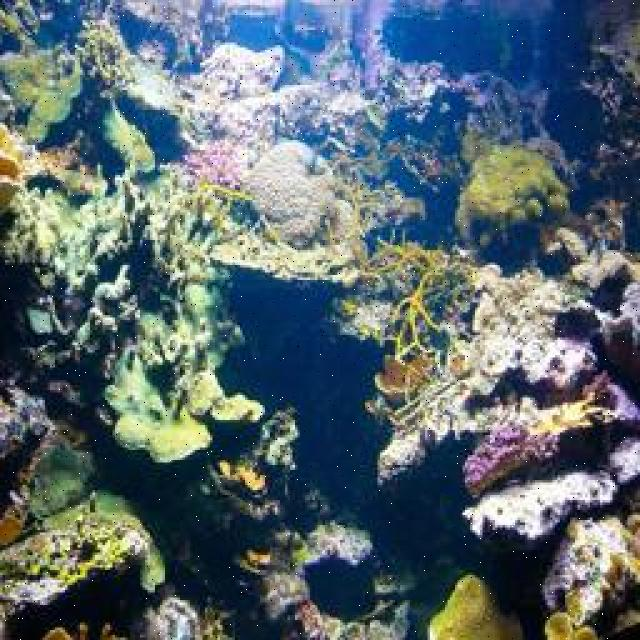reefs: (104, 264, 264, 463), (178, 40, 377, 144), (461, 437, 638, 538), (457, 131, 572, 247), (240, 141, 362, 249), (463, 416, 560, 497), (428, 574, 538, 638), (178, 138, 246, 186), (0, 118, 27, 213), (207, 459, 269, 500)
